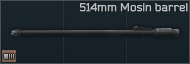Mosin 7.62x54R 514mm carbine barrel: (0, 0, 190, 64)
